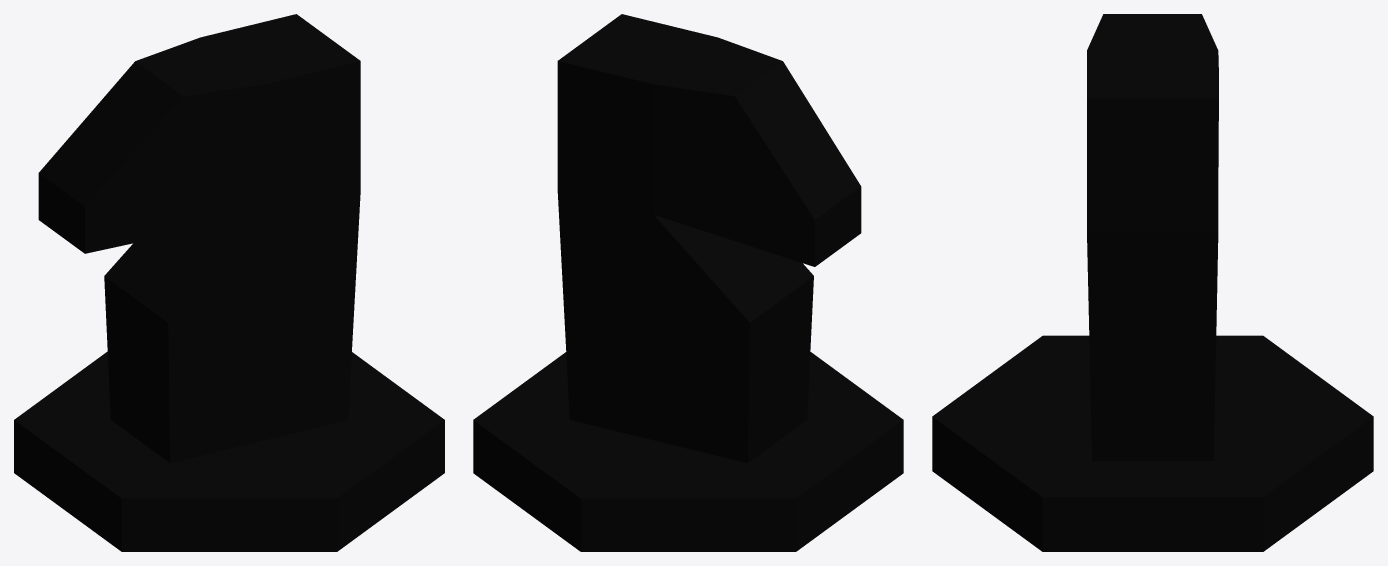
File: chesspieceknight02.obj
3 views of the same model, side by side, from view 1: azimuth 30°, elevation 25°; view 2: azimuth 150°, elevation 25°; view 3: azimuth 270°, elevation 25° (orthographic). The views are drawn at different scales.
Parts seen in each view (by area): view 1: Cylinder.002_Cylinder.006; view 2: Cylinder.002_Cylinder.006; view 3: Cylinder.002_Cylinder.006.
Part boxes in pixels (x1,y1,x2,y2): Cylinder.002_Cylinder.006: (14, 14, 444, 551); Cylinder.002_Cylinder.006: (473, 14, 903, 551); Cylinder.002_Cylinder.006: (932, 14, 1373, 551).
Bounding box in the file's own units: 0.0225 × 0.0274 × 0.026.
